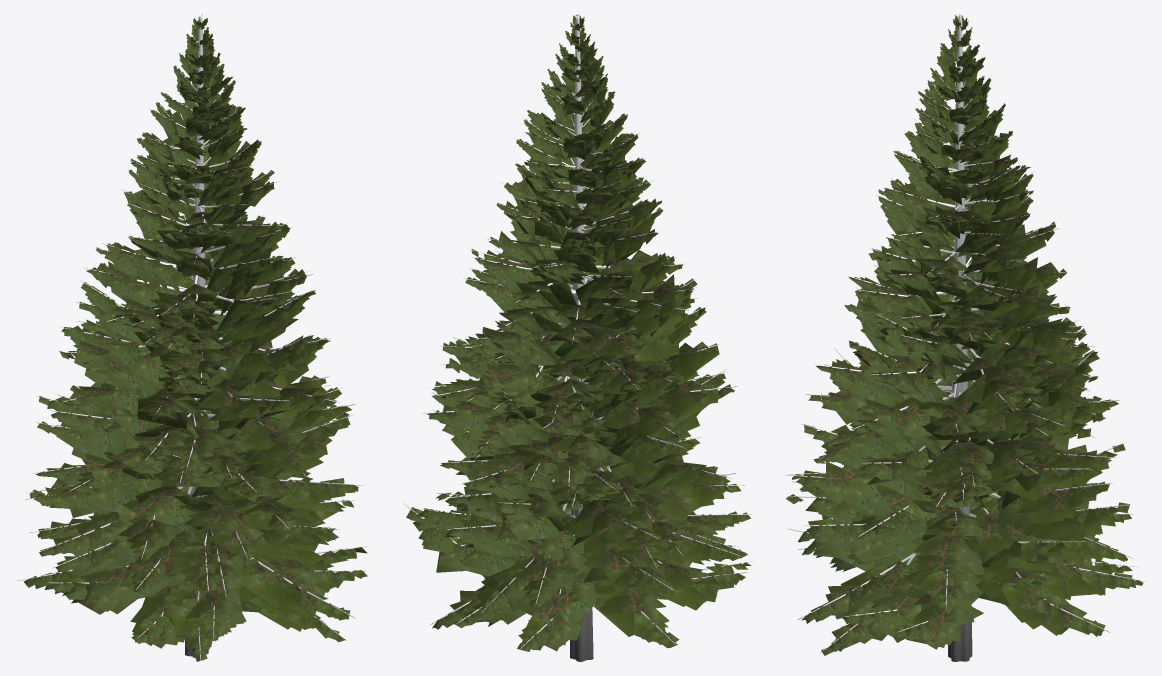
File: Spruce_Short_mdl.fbx
The picture shows the model from 3 angles, left to right: view 1: azimuth 30°, elevation 25°; view 2: azimuth 150°, elevation 25°; view 3: azimuth 270°, elevation 25°; orthographic projection.
Visible parts, largest first — view 1: Spruce_Short_LOD0; view 2: Spruce_Short_LOD0; view 3: Spruce_Short_LOD0.
Boxes of the visible parts, <box> form: Spruce_Short_LOD0: <box>16,14,371,661</box>; Spruce_Short_LOD0: <box>403,14,754,661</box>; Spruce_Short_LOD0: <box>785,14,1146,661</box>.
Bounding box in the file's own units: 704 × 1358 × 694.
Materials: 2 (1 with a texture image).
